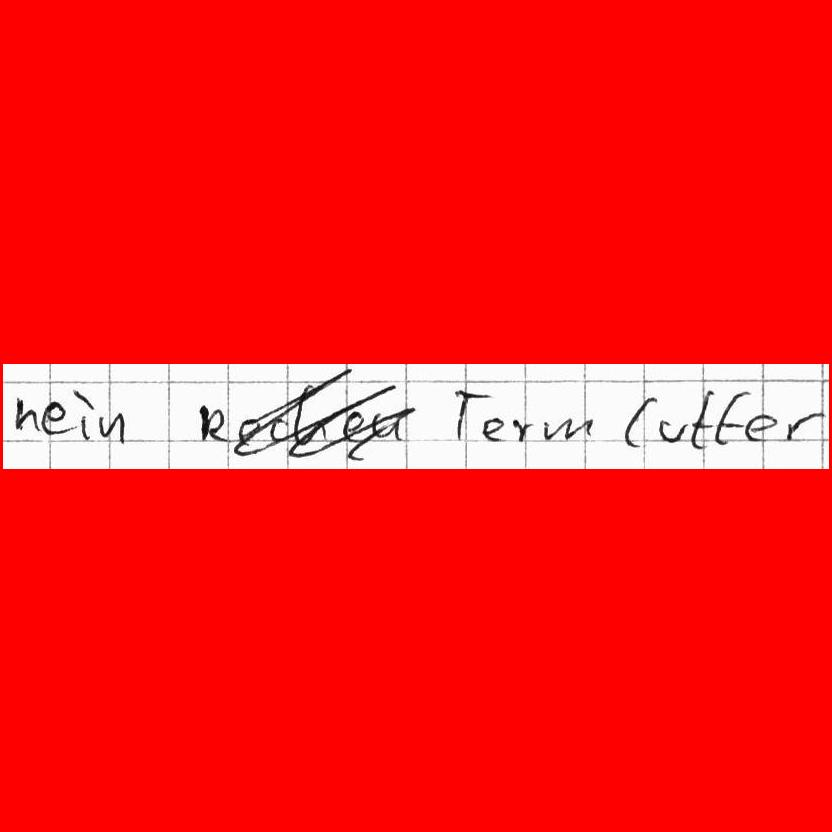Char: (712, 389, 749, 449), (451, 384, 486, 442), (623, 394, 658, 447), (541, 414, 597, 444), (689, 388, 716, 450), (195, 403, 232, 444), (72, 387, 96, 444), (786, 409, 827, 442), (41, 399, 72, 438), (13, 394, 40, 434), (745, 412, 777, 444), (97, 411, 127, 445), (659, 415, 689, 444), (479, 416, 504, 442), (512, 416, 534, 443)
